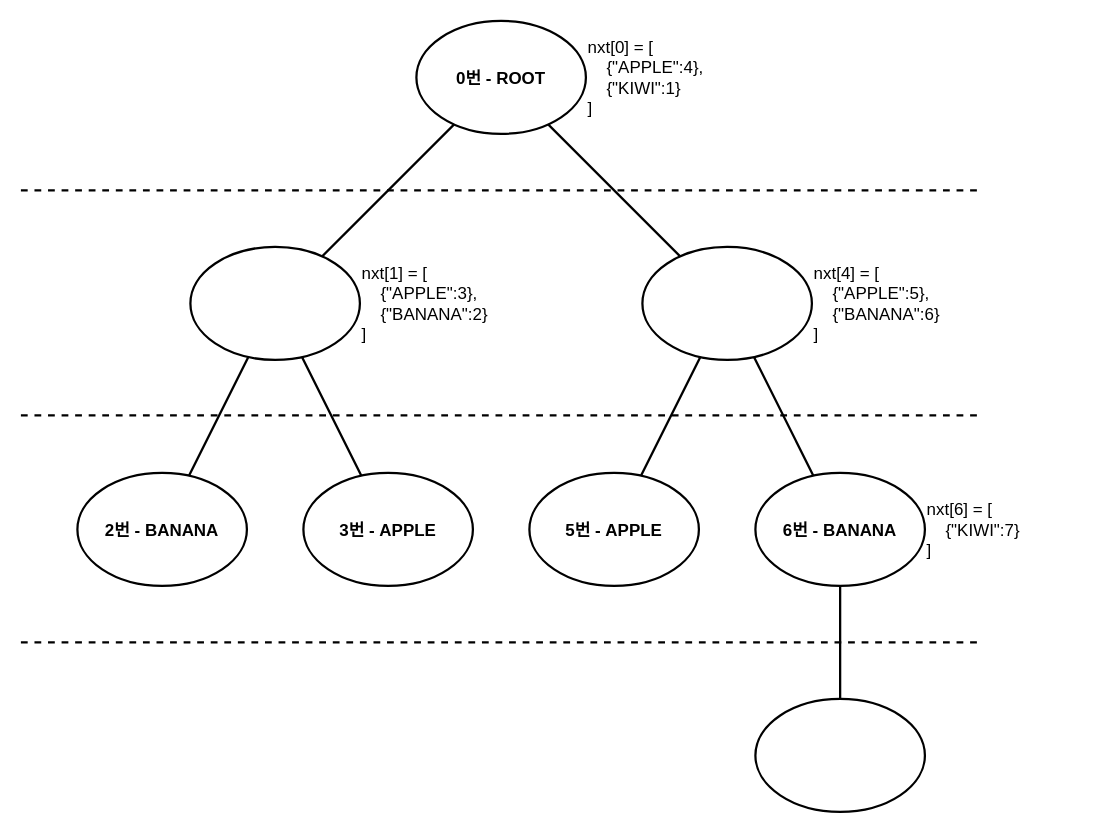
Image size: 1113x832. Some labels were removed from this diagram. The shapes that lost their labels are listed below. From the top down, each one's box as (x1, y1, x2, y2) in pixels, then its label:
(189, 245, 360, 360): 1번 - KIWI
(641, 245, 812, 360): 4번 - APPLE
(754, 697, 925, 812): 7번 - KIWI
